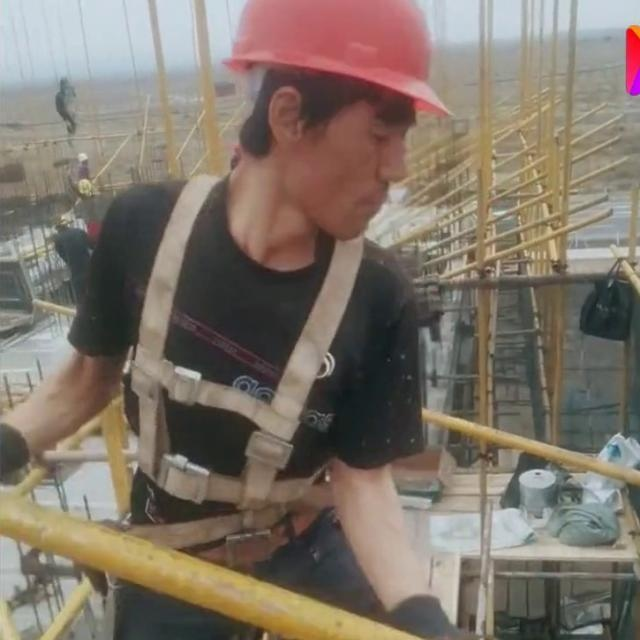Arnes_seguridad: (118, 164, 380, 536)
